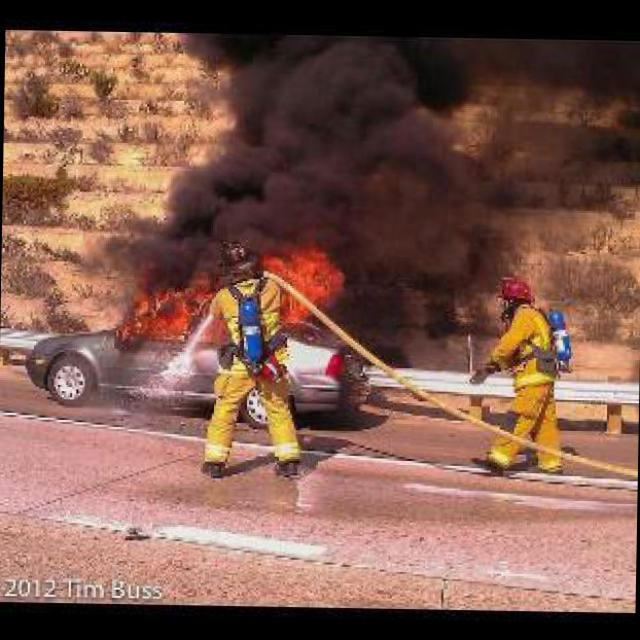fire: (105, 235, 348, 352)
smoke: (97, 30, 520, 292)
